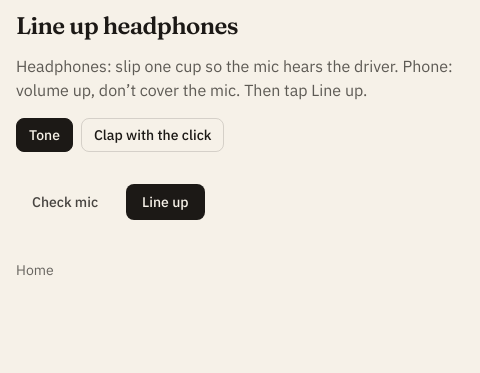
it: CalibrationPage › clap mode auto-saves stable estimate
Click the button "Clap with the click": (153, 135) [81,118,224,152]
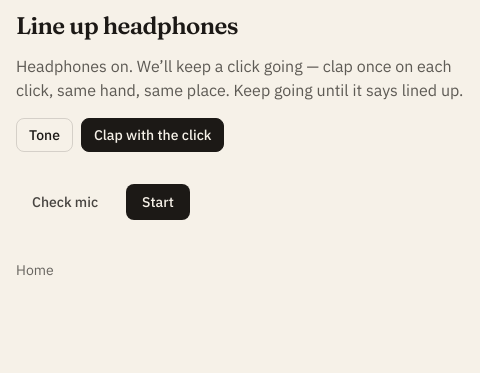
Click the button "Start": (158, 202) [126,184,190,220]
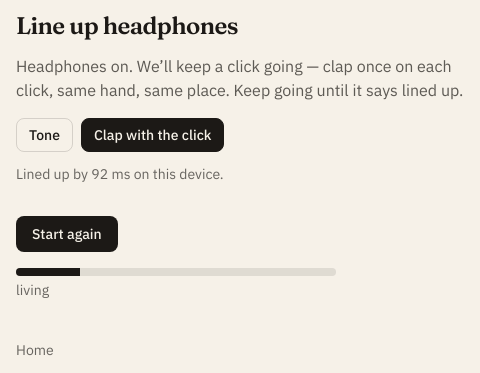
Result: the text "Lined up by 92 ms on this device." is shown at [16,165,224,183]
Result: the button "Start again" is shown at [16,216,118,252]
